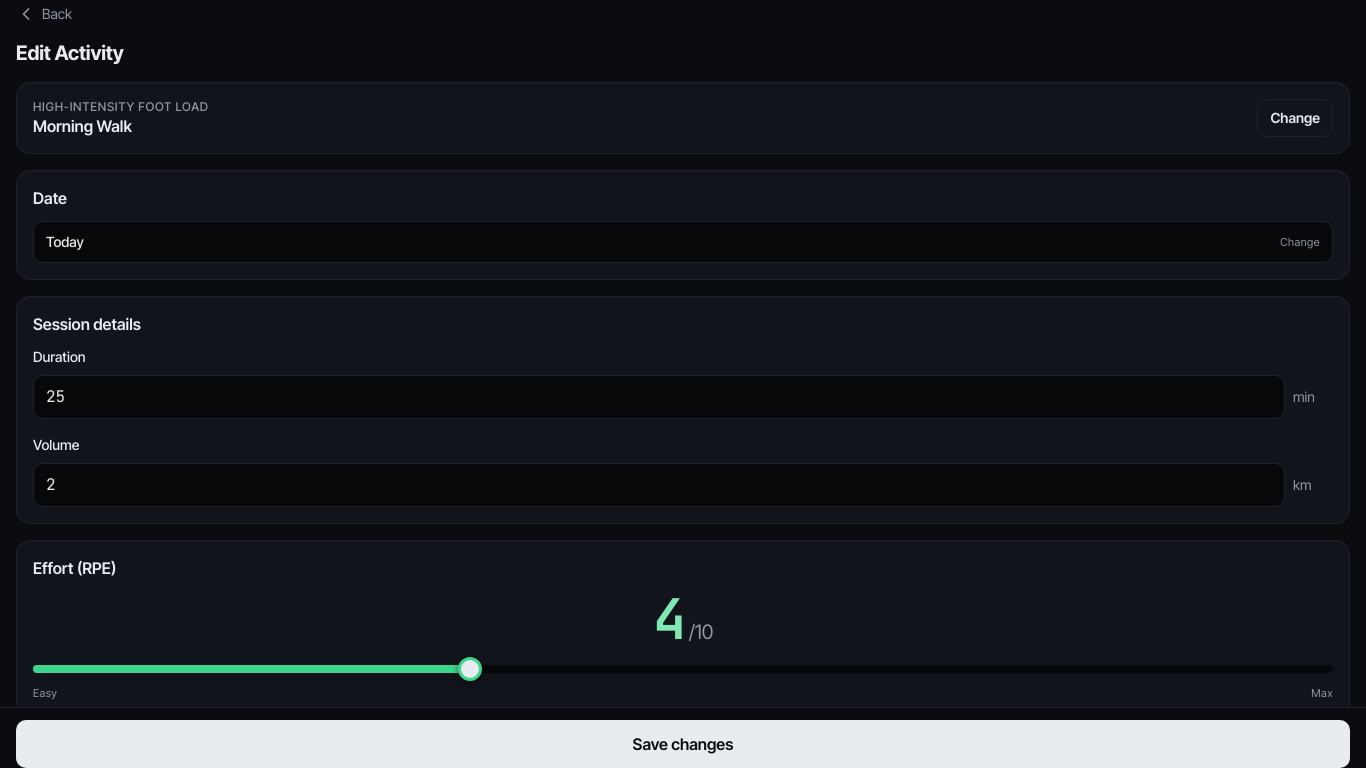
Test: LogActivityScreen — P25.5 date popover association › associates the open popover with log-date-field via aria-controls (edit)
The width and height of the screenshot is (1366, 768).
Click the button with test id "log-date-field": (65, 242) [33,221,1333,263]
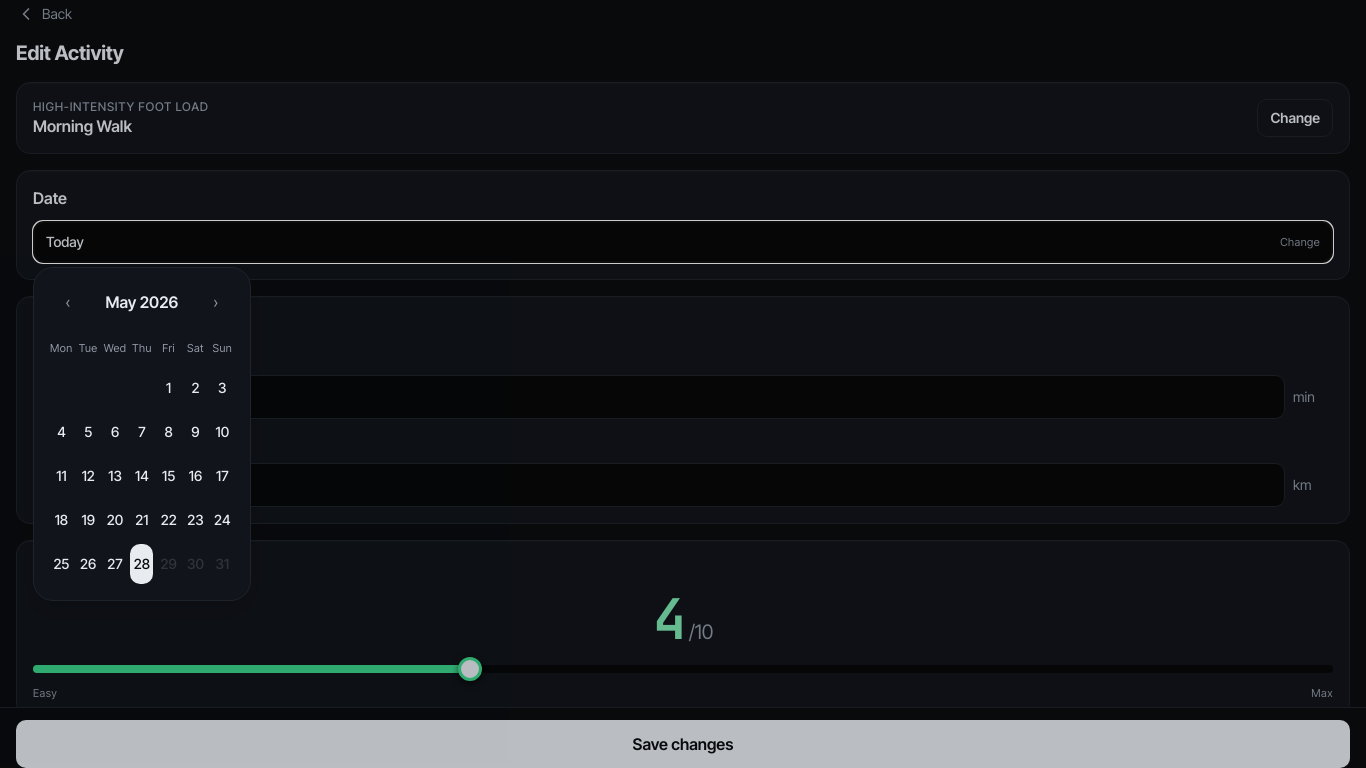
Now the button with test id "log-date-field" is expanded, box [33,221,1333,263]
